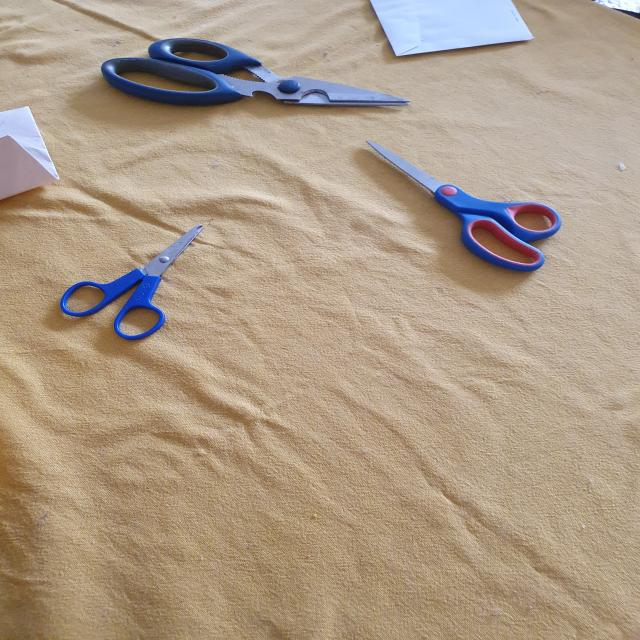scissors: (360, 131, 565, 278), (102, 35, 413, 113), (60, 223, 212, 345)
